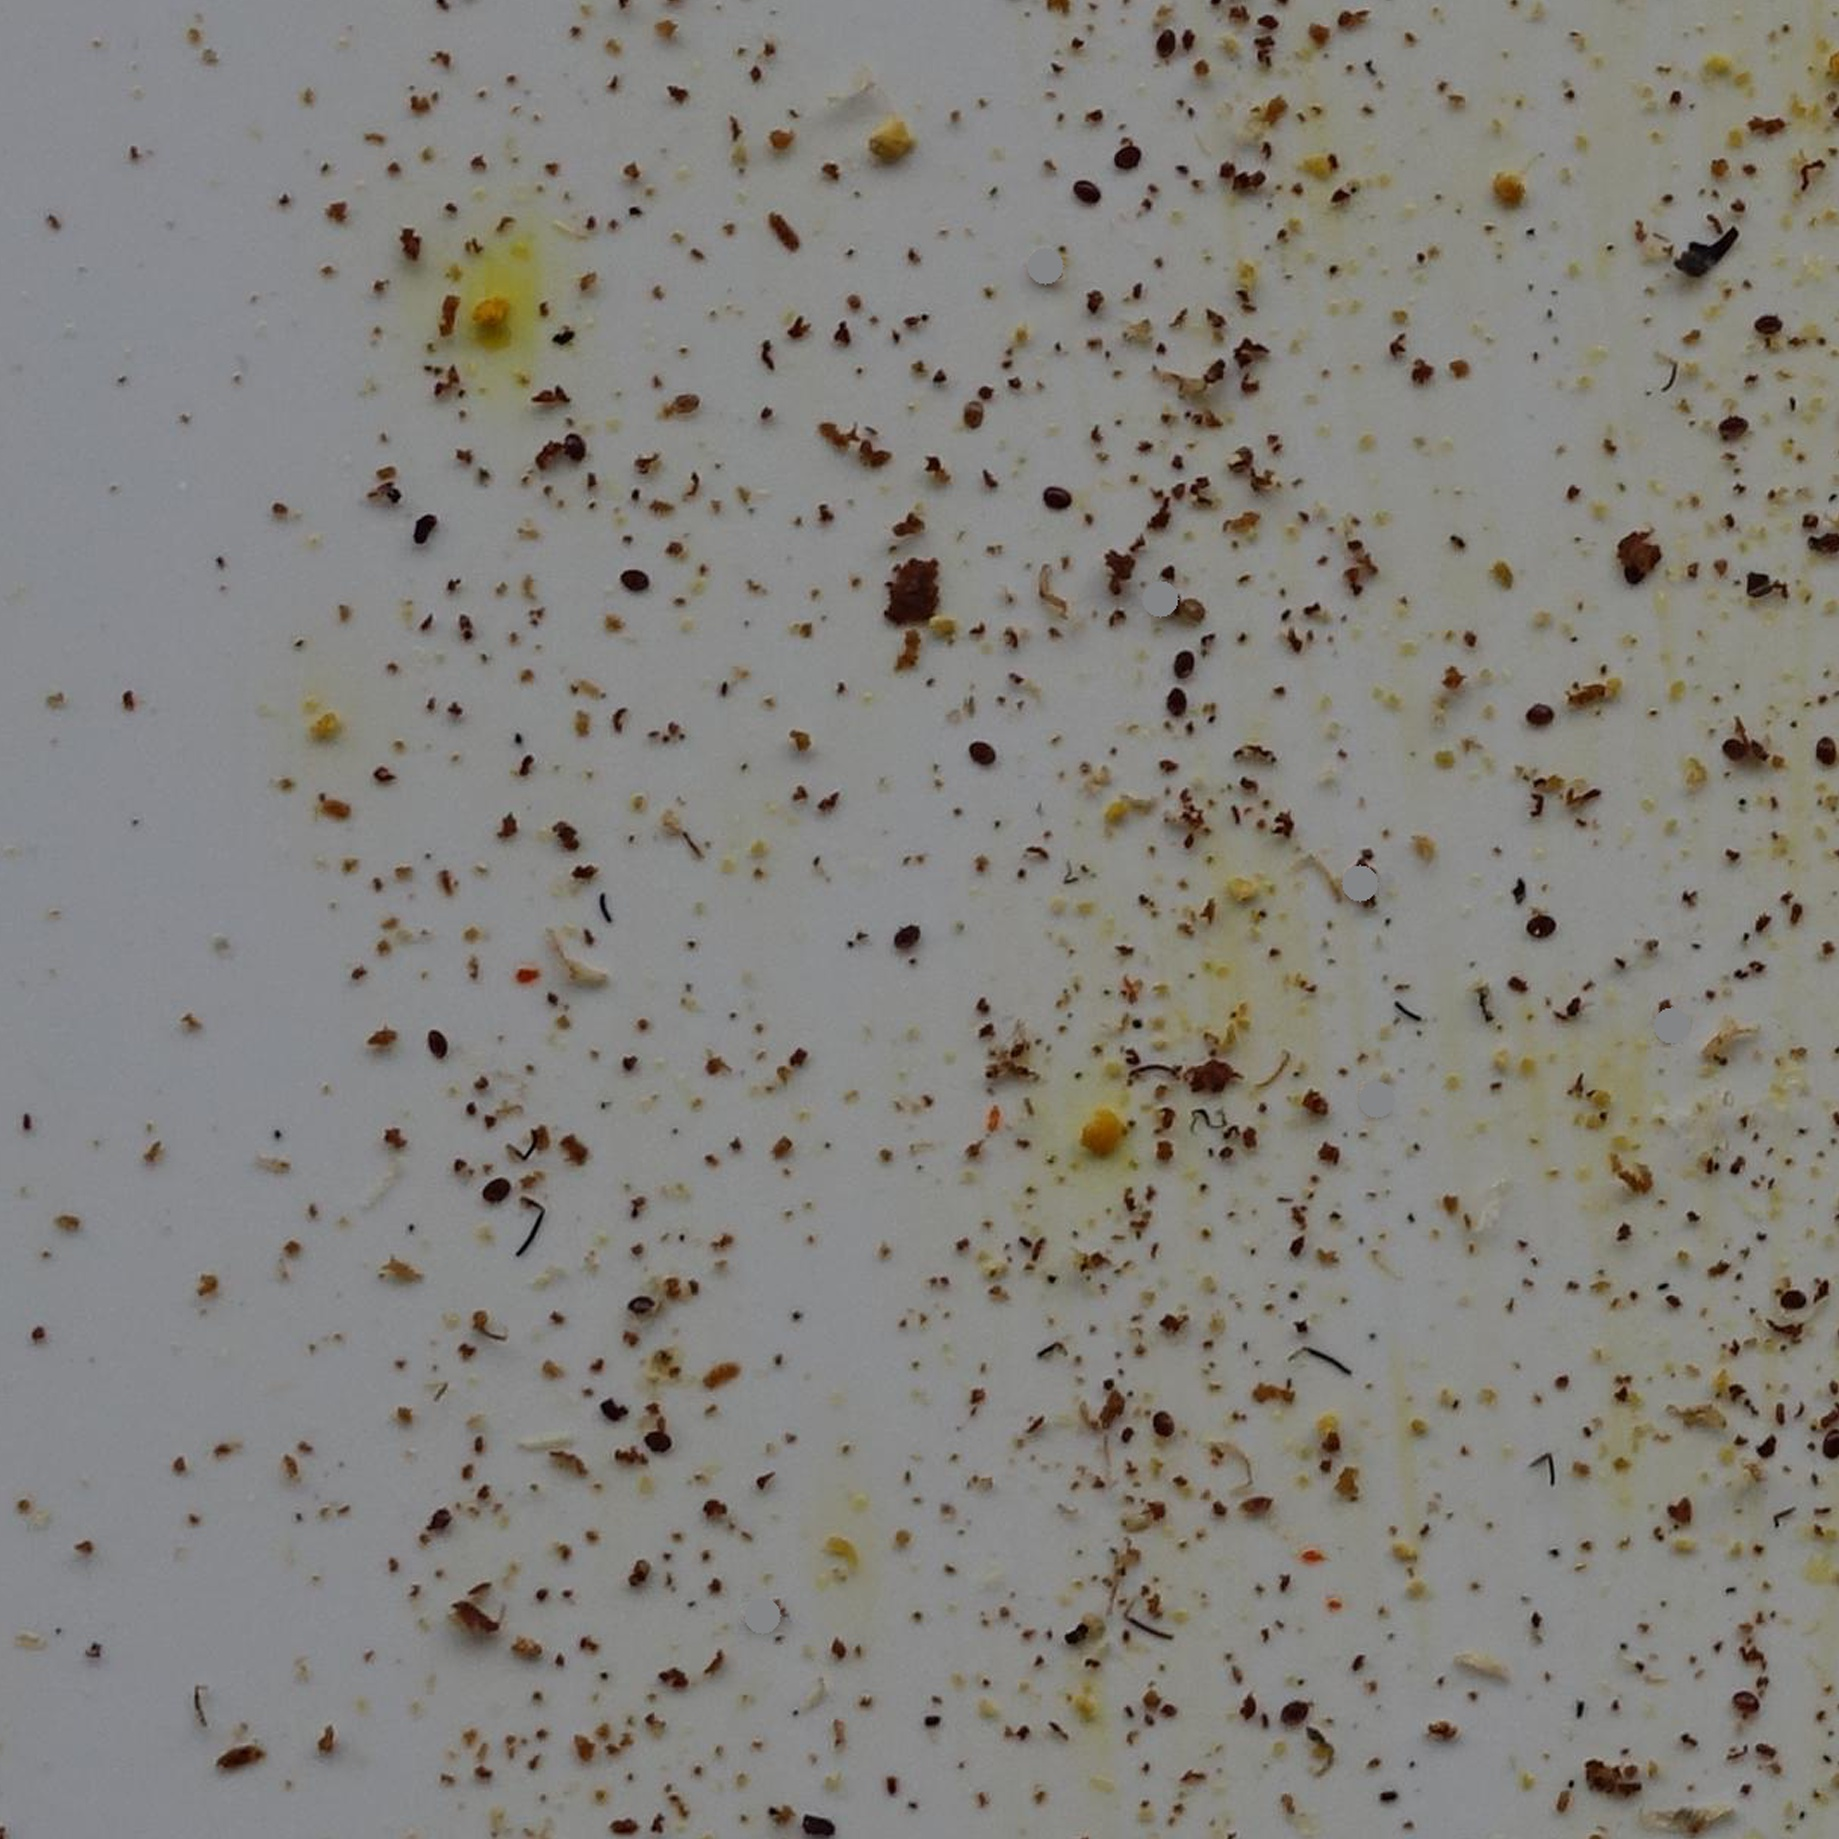Varroa: (1170, 588, 1214, 632), (1181, 680, 1204, 712), (1622, 556, 1649, 583), (647, 1426, 674, 1452), (564, 433, 589, 458), (1755, 305, 1778, 332), (630, 1293, 653, 1320), (1285, 1699, 1309, 1726), (478, 1175, 502, 1201), (896, 926, 919, 950), (973, 738, 997, 761), (1047, 482, 1071, 505), (1529, 702, 1551, 728), (1723, 414, 1745, 440), (1724, 734, 1746, 760), (1152, 1411, 1174, 1437), (1155, 30, 1177, 56), (1117, 145, 1138, 168), (1783, 1283, 1805, 1307), (428, 1029, 450, 1053), (1175, 643, 1197, 667), (962, 408, 983, 431), (625, 568, 647, 589), (1738, 1687, 1760, 1709), (1079, 179, 1100, 200), (1169, 694, 1186, 706), (1531, 930, 1544, 936), (1539, 918, 1553, 925), (1822, 744, 1837, 749)
